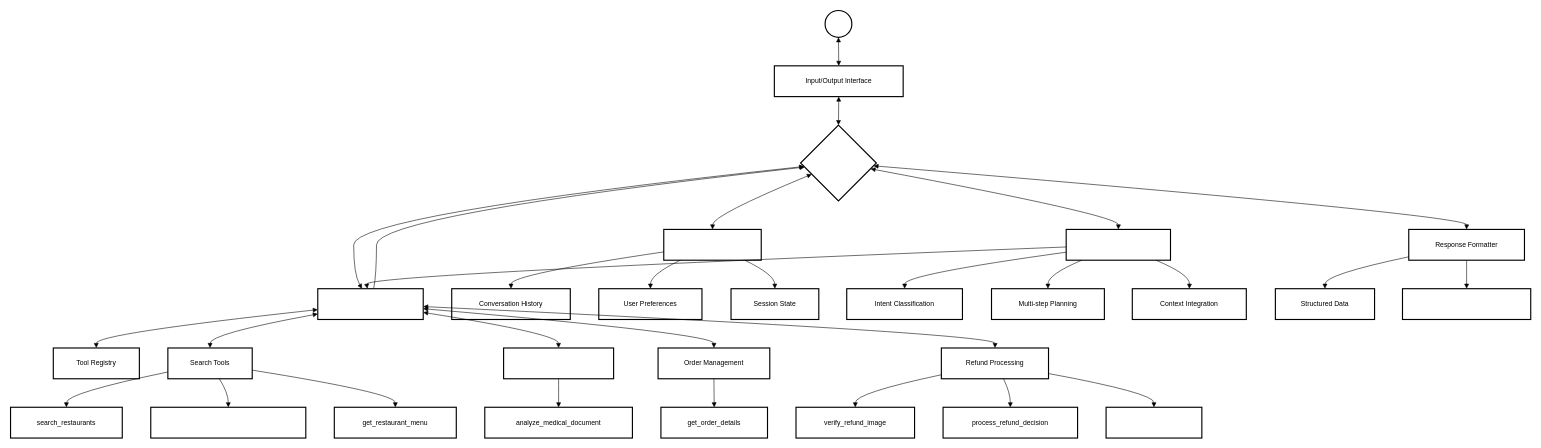
Some shapes in this 1541 by 448 pixel diagram are drawn without their labels. The centre of each missing label's shape, as x and y in pixels:
"Agent Core" goes at [838,162].
"Document Analysis" goes at [558,363].
"initiate_refund" goes at [1153,422].
"Memory System" goes at [712,244].
"Reasoning Engine" goes at [1118,244].
"search_food_items_enhanced" goes at [228,422].
"Tool Orchestrator" goes at [370,304].
"UI Component Mapping" goes at [1466,304].
"User" goes at [838,24].
